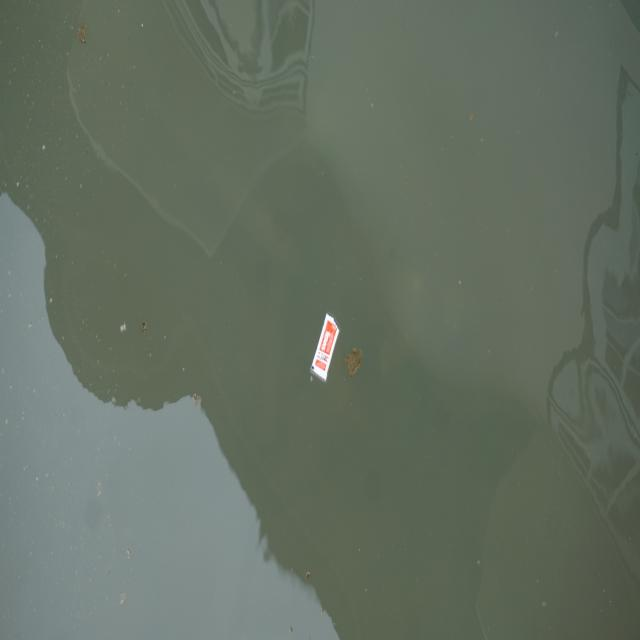Bungkus Makanan: (309, 308, 342, 395)
